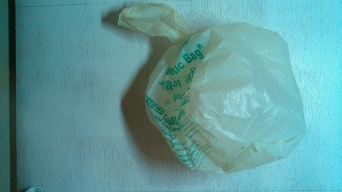f: (144, 11, 312, 180)
